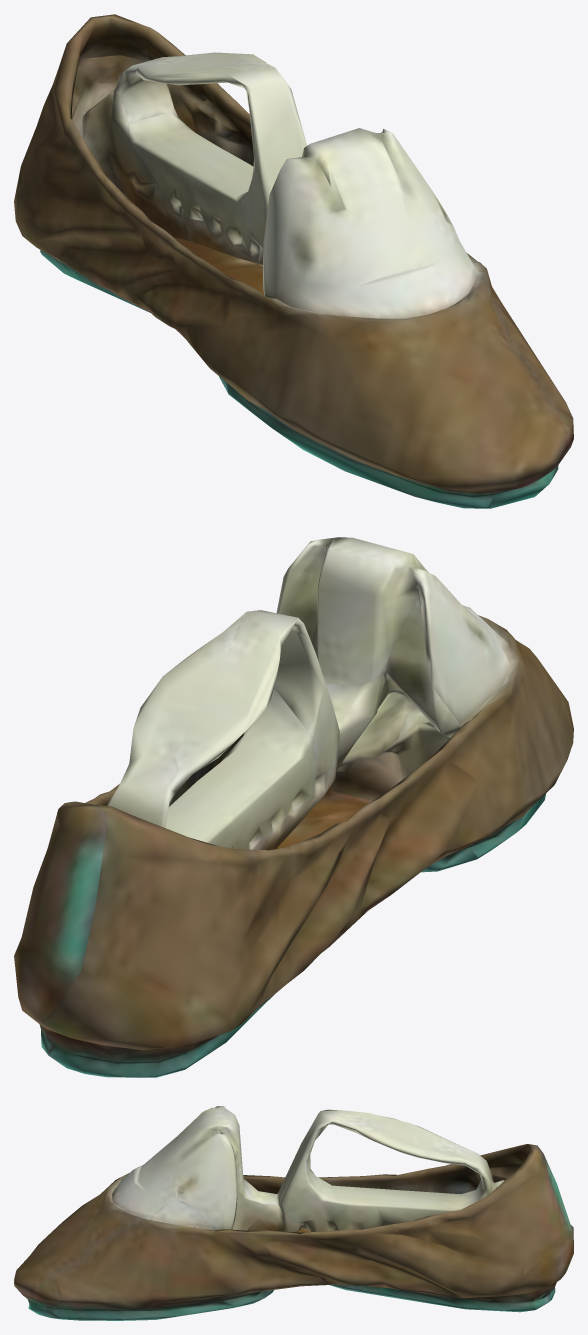
Rendered from gso_sienna_brown_croc_tieks_patent_leather_crocodile_print_ballet_flats.glb.
3 views of the same model, one above another, from view 1: azimuth 30°, elevation 25°; view 2: azimuth 150°, elevation 25°; view 3: azimuth 270°, elevation 25° (orthographic). The views are drawn at different scales.
Parts seen in each view (by area): view 1: z-up-to-y-up; view 2: z-up-to-y-up; view 3: z-up-to-y-up.
Boxes of the visible parts, x1=… form: z-up-to-y-up: x1=14, y1=14, x2=573, y2=508; z-up-to-y-up: x1=14, y1=537, x2=573, y2=1077; z-up-to-y-up: x1=14, y1=1106, x2=573, y2=1320.
Bounding box in the file's own units: 0.0827 × 0.0876 × 0.2427.
1 material, 1 textured.
